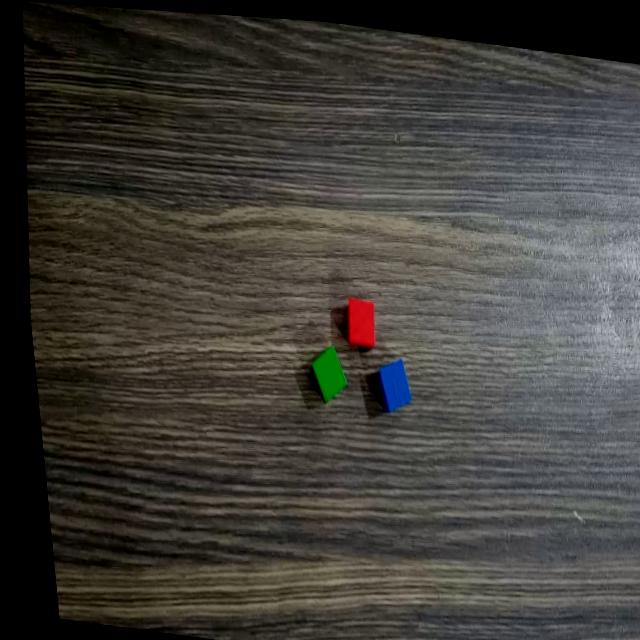cube: (295, 331, 346, 406), (364, 344, 411, 413), (335, 285, 376, 346)
